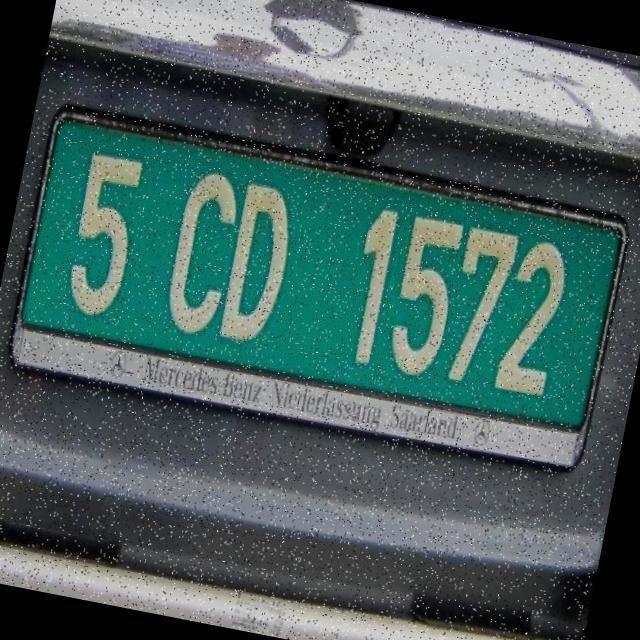License Plate: (5, 104, 633, 472)
